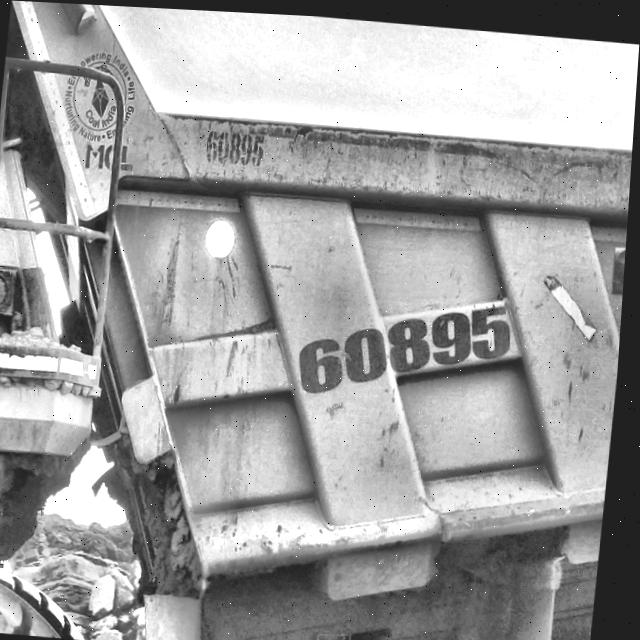dump_truck: (0, 0, 634, 640)
